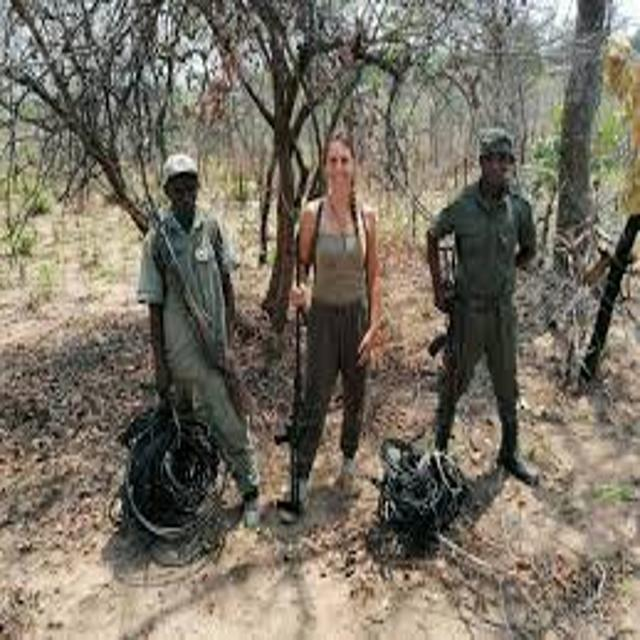gun: (135, 207, 276, 442), (255, 223, 335, 537)
poacher: (231, 104, 439, 554), (388, 105, 595, 528), (85, 137, 280, 540)
